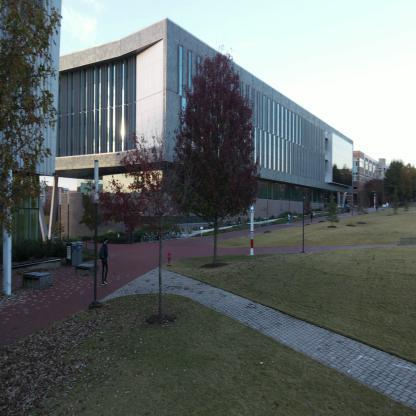EB-1: (356, 142, 389, 225)
Fitts- Woolard: (67, 0, 354, 262)
Hunt Library: (0, 2, 63, 314)
